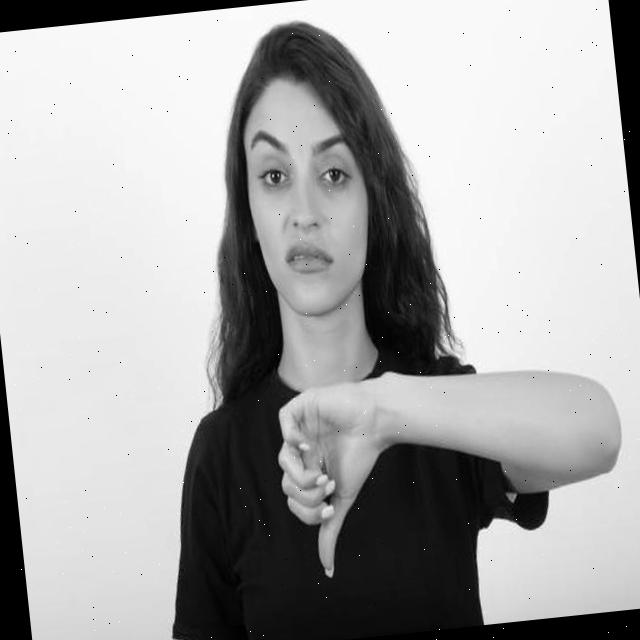Disgust: (234, 71, 380, 322)
